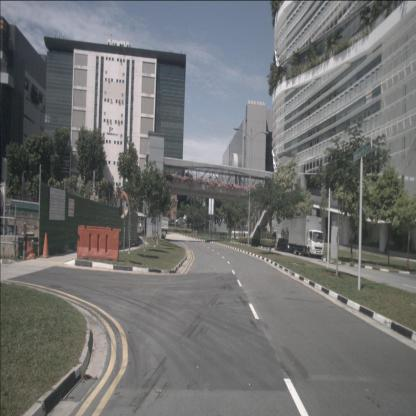human-pedestrian-adult: (140, 222, 141, 231)
movable_object-barrier: (75, 224, 122, 264)
movable_object-trafficcone: (39, 230, 51, 258), (26, 236, 37, 260), (22, 222, 27, 260)
vehicle-car: (277, 238, 295, 253), (175, 217, 185, 224)
vehicle-truck: (288, 215, 324, 259), (158, 216, 169, 234)
